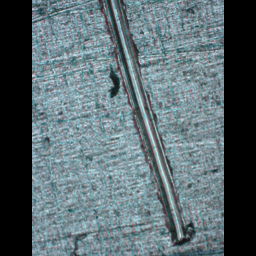d: (93, 0, 198, 246)
